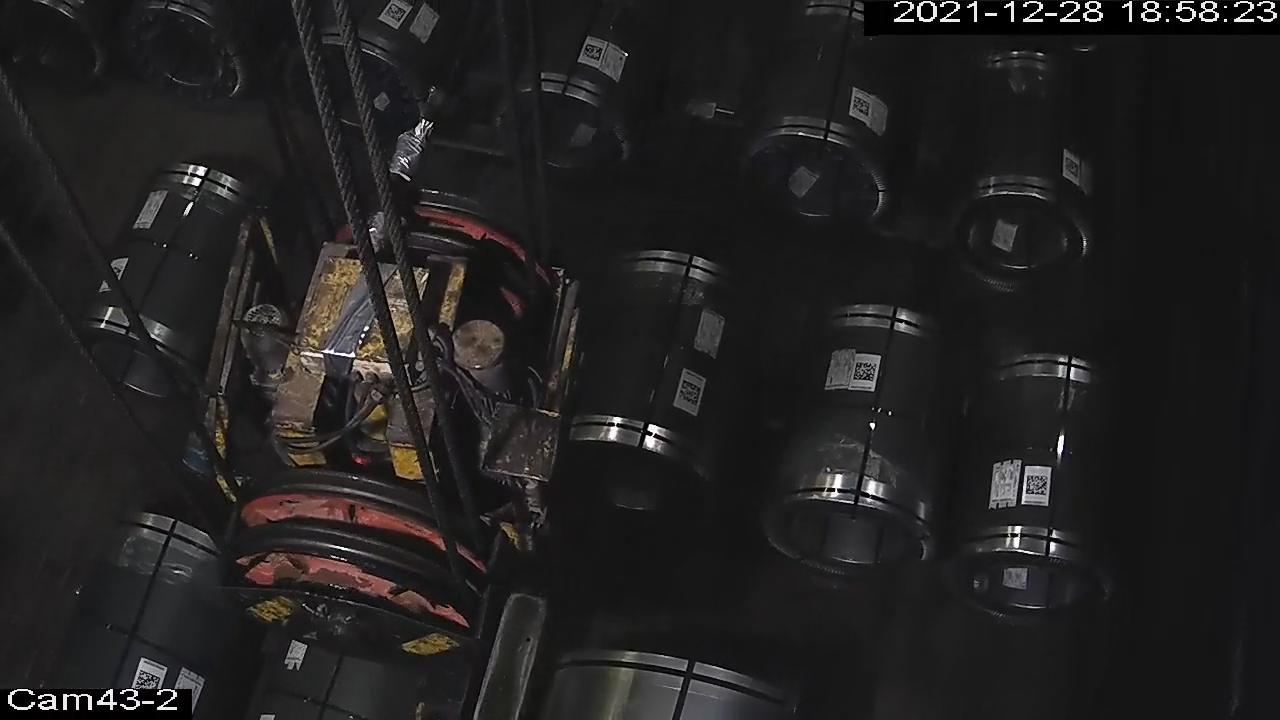data matrix: (675, 379, 704, 409), (1024, 474, 1052, 499), (384, 2, 409, 25), (853, 360, 878, 383), (852, 95, 873, 119), (582, 43, 606, 64), (1064, 155, 1082, 181)
